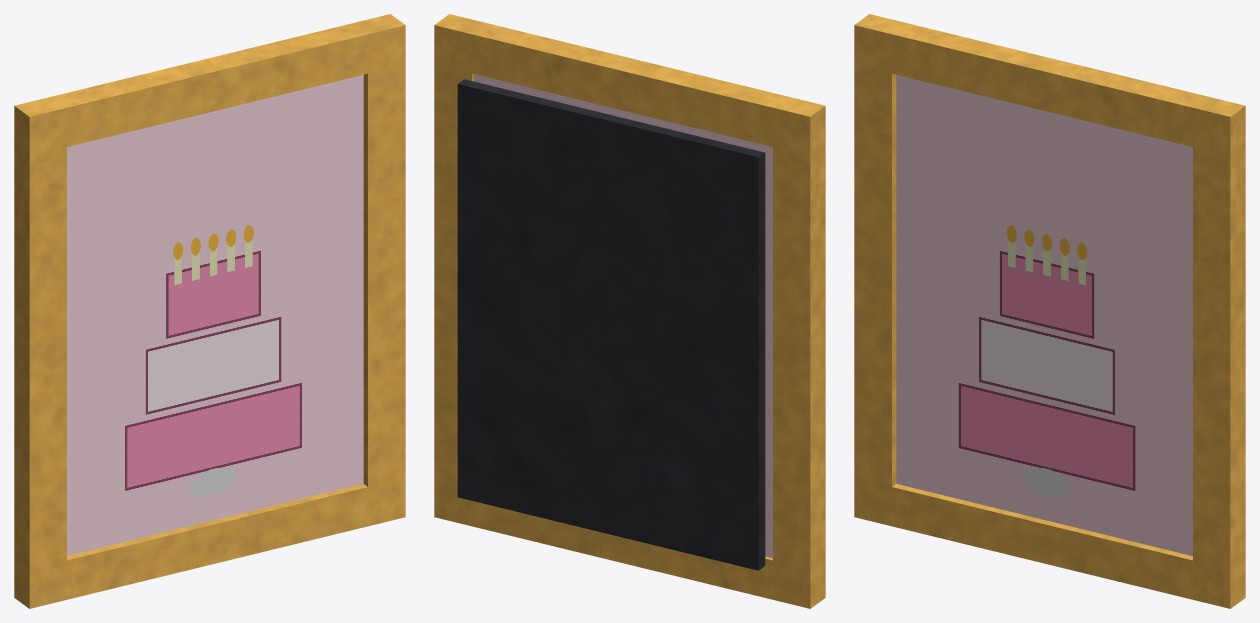
File: dun_pic_cake.glb
3 renders of one model, left to right at view 1: azimuth 30°, elevation 25°; view 2: azimuth 150°, elevation 25°; view 3: azimuth 330°, elevation 25°, orthographic.
Parts seen in each view (by area): view 1: dun_pic_cake_pic_cake_0, dun_pic_cake_gold_0; view 2: dun_pic_cake_slate_0, dun_pic_cake_gold_0, dun_pic_cake_pic_cake_0; view 3: dun_pic_cake_pic_cake_0, dun_pic_cake_gold_0.
Part boxes in pixels (left/top/right/bottom): dun_pic_cake_pic_cake_0: left=67, top=75, right=363, bottom=555; dun_pic_cake_gold_0: left=14, top=14, right=405, bottom=608; dun_pic_cake_slate_0: left=457, top=79, right=765, bottom=570; dun_pic_cake_gold_0: left=434, top=14, right=825, bottom=608; dun_pic_cake_pic_cake_0: left=474, top=74, right=772, bottom=558; dun_pic_cake_pic_cake_0: left=896, top=75, right=1192, bottom=555; dun_pic_cake_gold_0: left=854, top=14, right=1245, bottom=608.
Bounding box in the file's own units: 1 × 1.25 × 0.135.
Materials: 3 (3 with a texture image).
